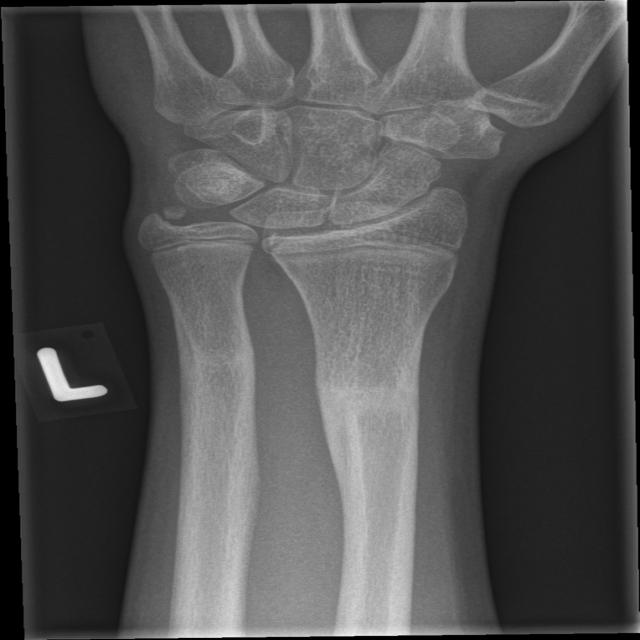radius fracture: (294, 349, 448, 520)
ulna fracture: (210, 270, 286, 446)
